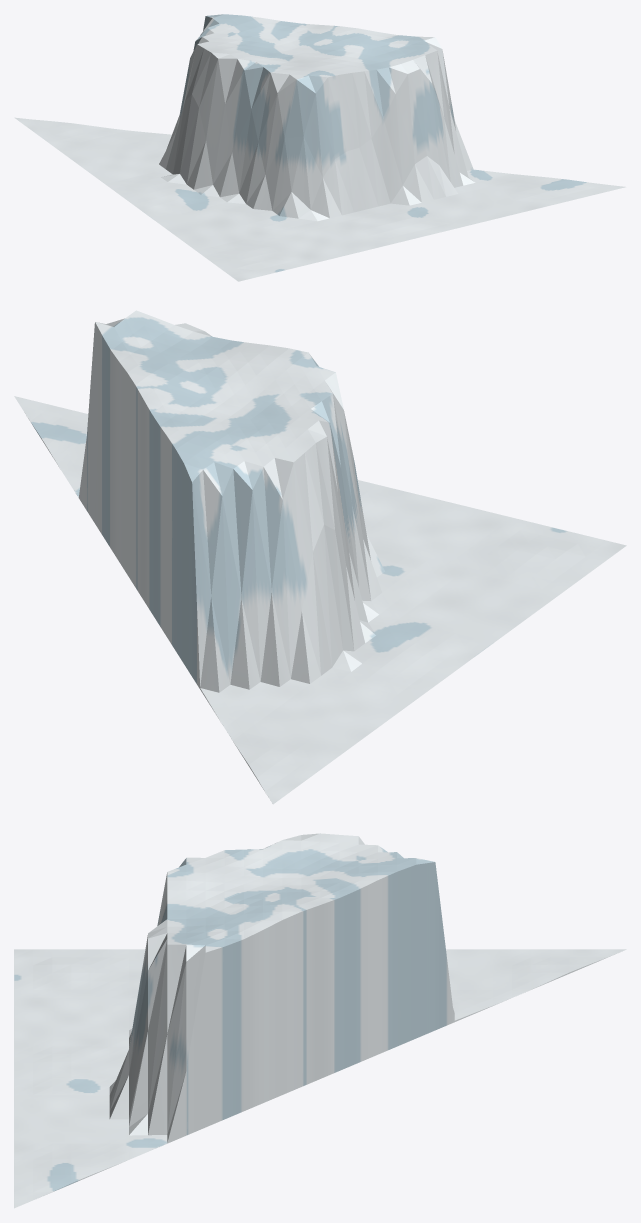
The model's file is Snow_Mountains_10_NW.obj.
3 views of the same model, one above another, from view 1: azimuth 30°, elevation 25°; view 2: azimuth 150°, elevation 25°; view 3: azimuth 270°, elevation 25° (orthographic). The views are drawn at different scales.
Bounding box in the file's own units: 10 × 3.16 × 10.
1 material, 1 textured.
